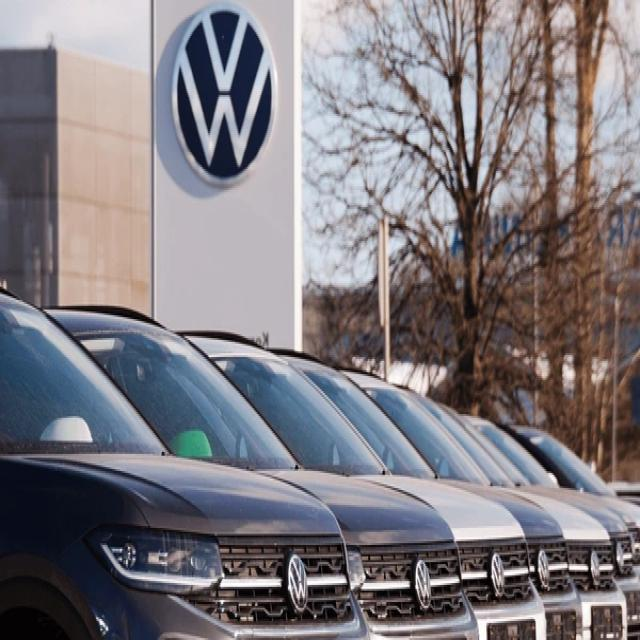wolksvogen: (171, 2, 282, 185)
